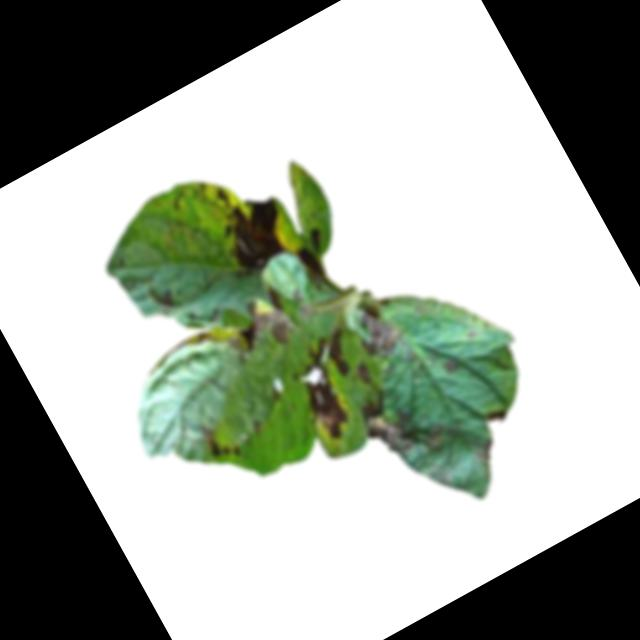Early_blight: (362, 392, 453, 476), (214, 189, 300, 276), (290, 367, 360, 449), (344, 296, 408, 369), (293, 326, 362, 392), (244, 295, 300, 352), (201, 426, 244, 470), (352, 389, 393, 427), (206, 182, 235, 214), (304, 226, 331, 256), (472, 440, 499, 467), (353, 364, 374, 390), (441, 358, 460, 376)
